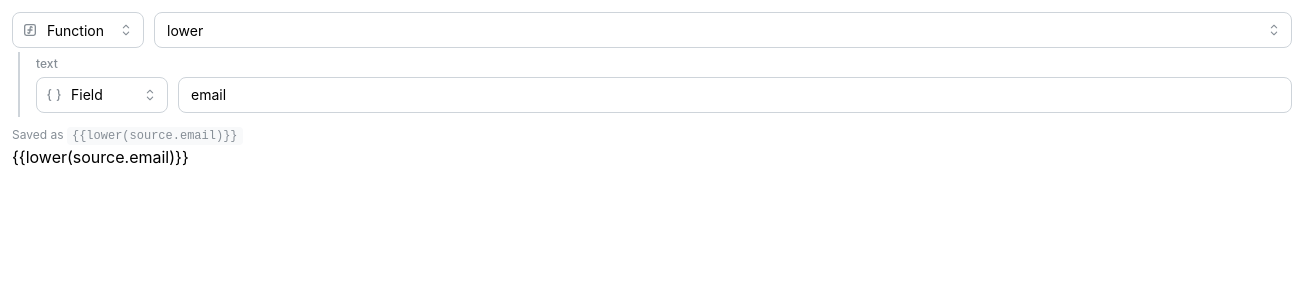
Test: ValueBuilder › takes a secret of the vhost as an argument
Click the dropdown named "Value › text type" at (102, 95), box left=36, top=77, right=168, bottom=113
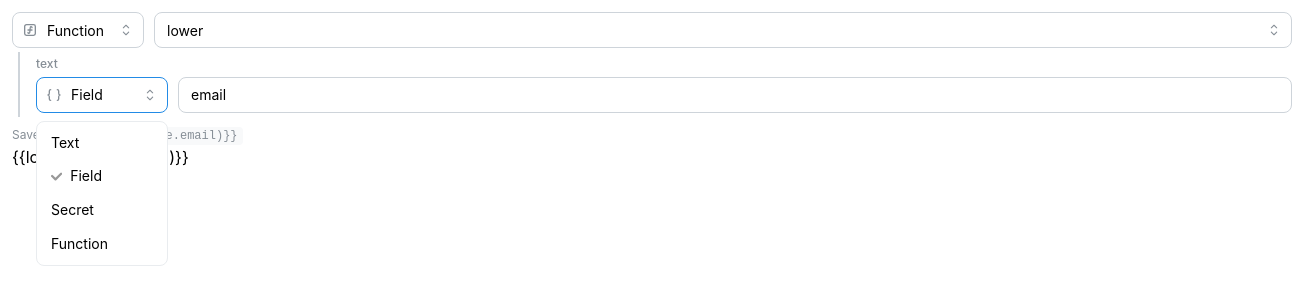
Click the option "Secret" at (72, 210), box left=51, top=201, right=94, bottom=218
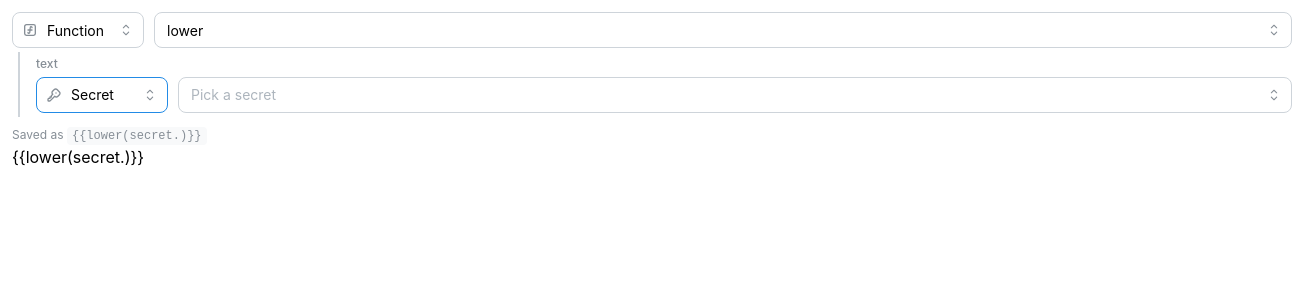
Click the dropdown named "Value › text secret" at (735, 95), box left=178, top=77, right=1292, bottom=113
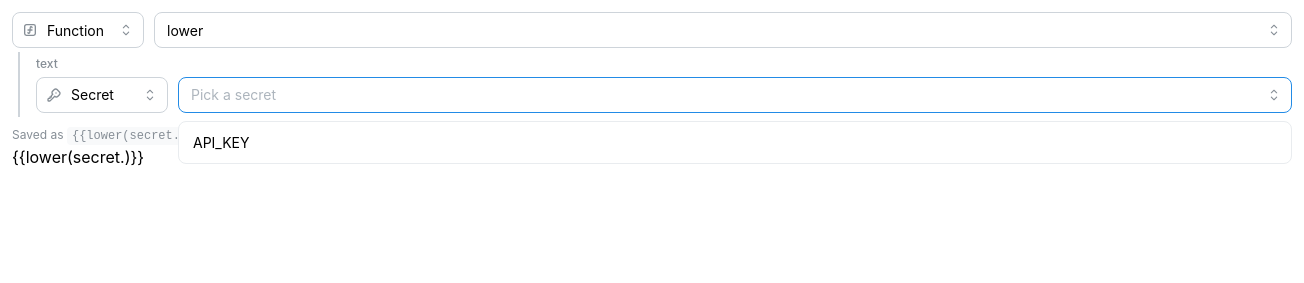
Click the option "API_KEY" at (221, 142), box left=193, top=134, right=250, bottom=151
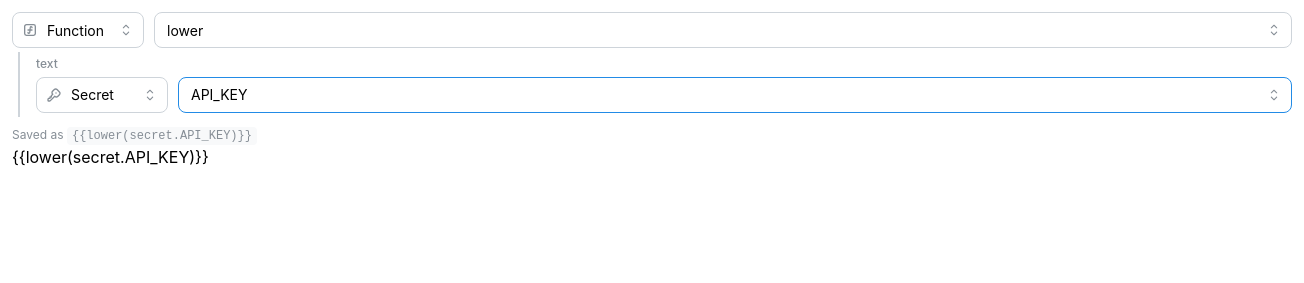
Now the text "{{lower(secret.API_KEY)}}" next to "Saved as" is shown, box left=72, top=129, right=252, bottom=143
